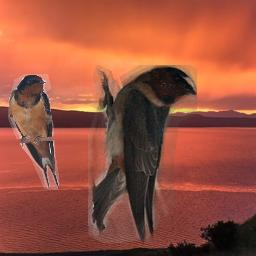Swallow: (88, 65, 197, 243), (8, 74, 59, 190)
